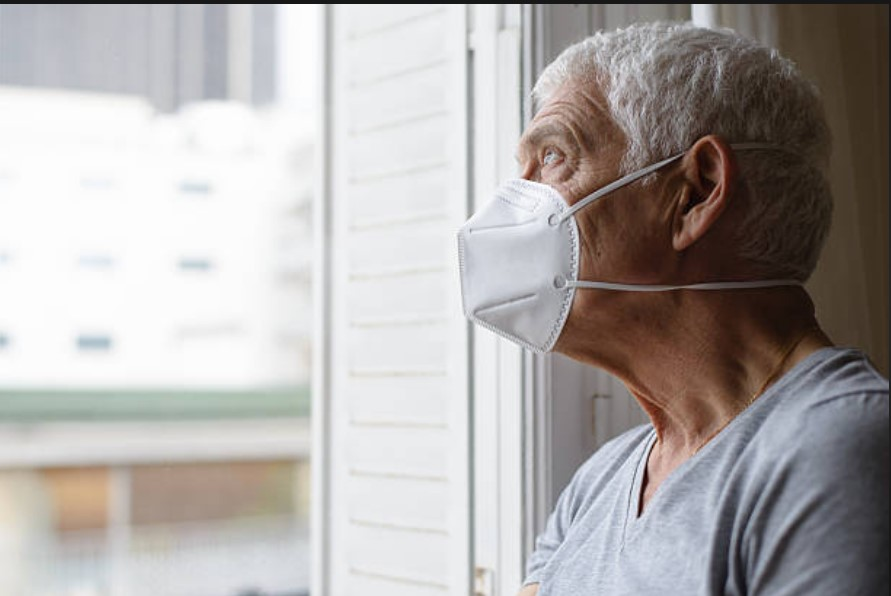face_with_mask: (459, 26, 831, 353)
